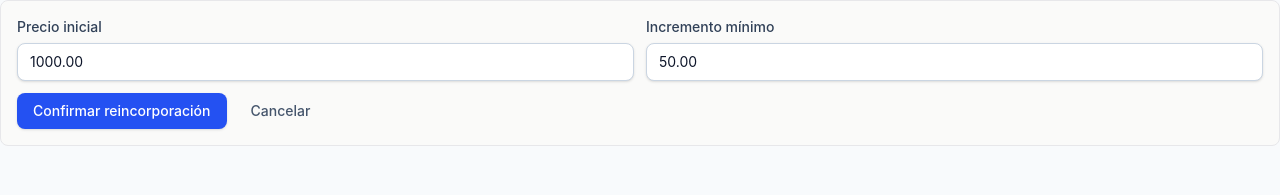
Scenario: RequeueLoteForm › muestra el error del backend sin cerrar el formulario
Click the button "Confirmar reincorporación": {"x": 122, "y": 111} [17,93,226,129]
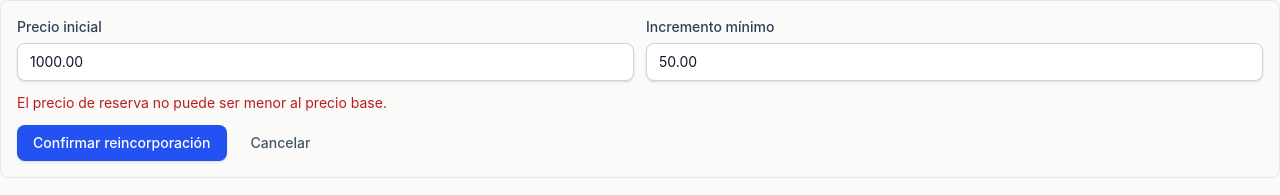
Expected: the text "El precio de reserva no puede ser menor al precio base." is shown, [17,94,387,111]
